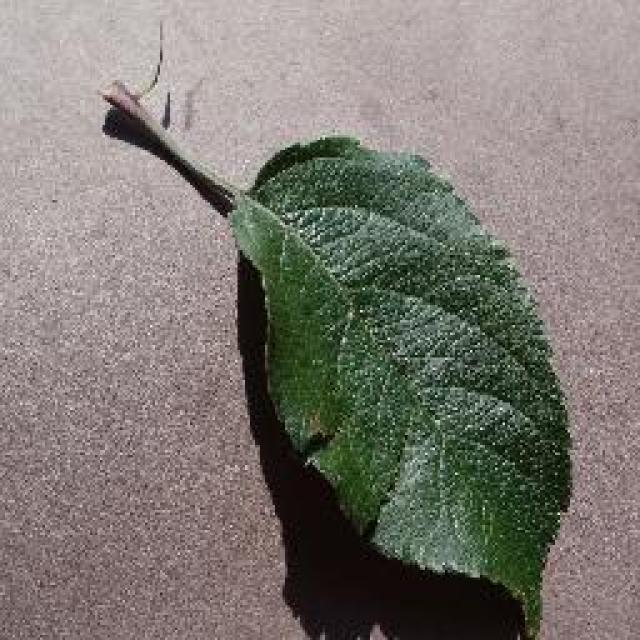apple healthy: (98, 45, 578, 637)
